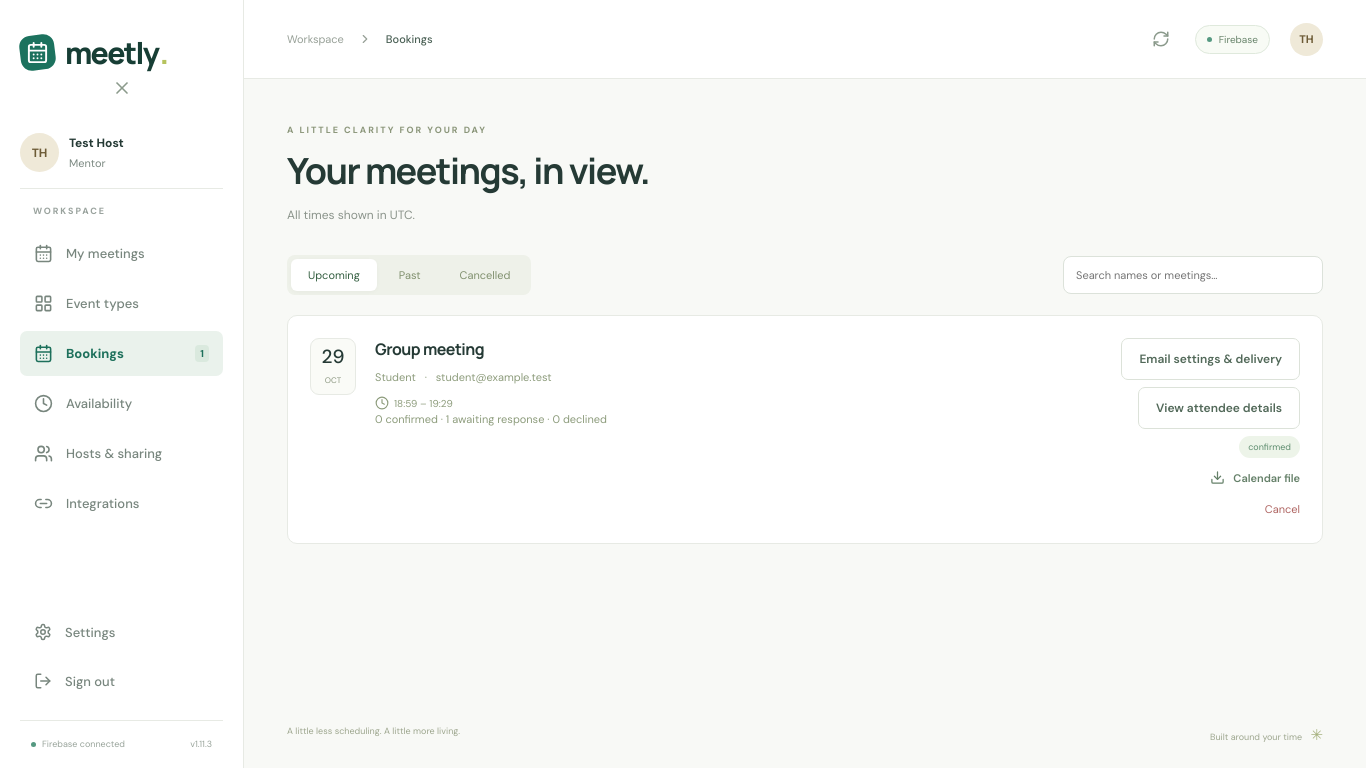
Test: group participant details preserve the original booking ID even with an older roster response
The width and height of the screenshot is (1366, 768).
(page scrolled)
Click the button "View attendee details" at (1219, 408), box [1138,387,1300,429]
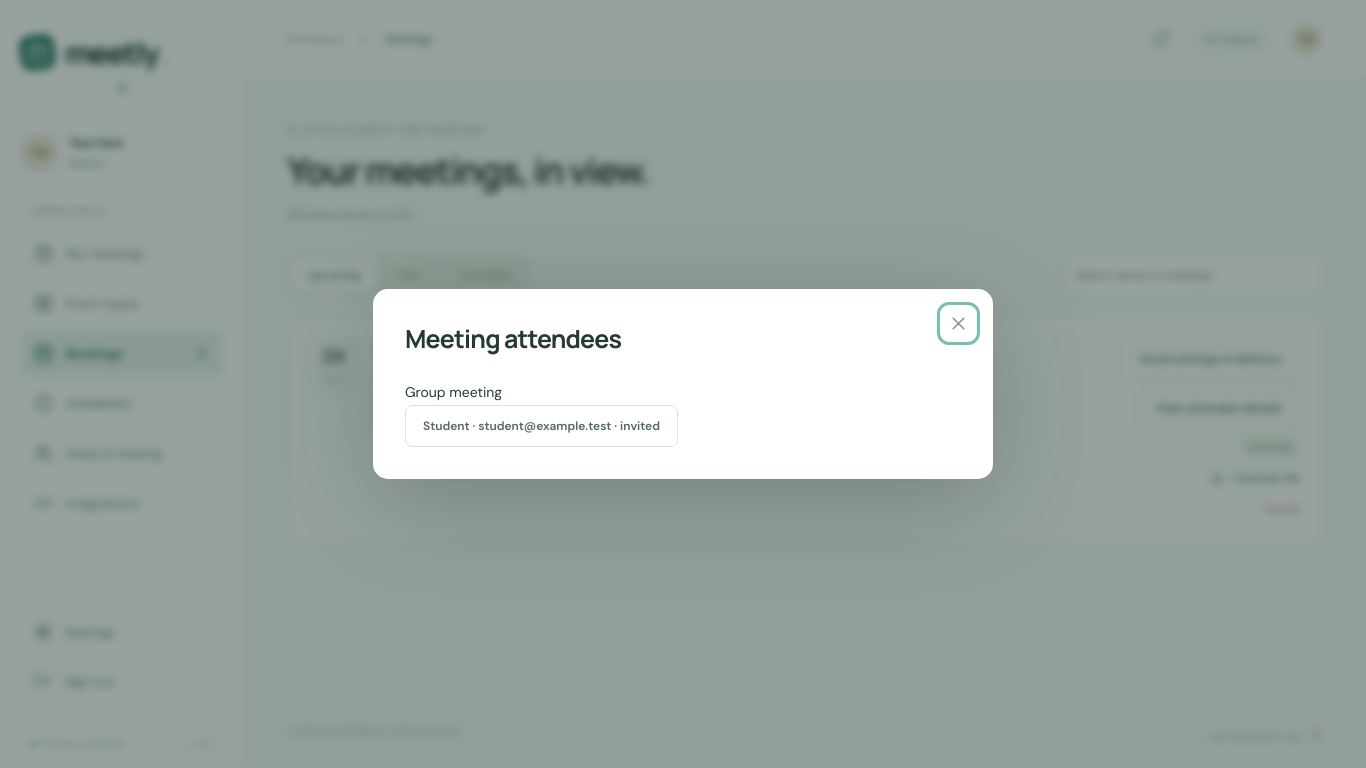
Click the button "Student · student@example.test · invited" at (542, 426), box [405,405,678,447]
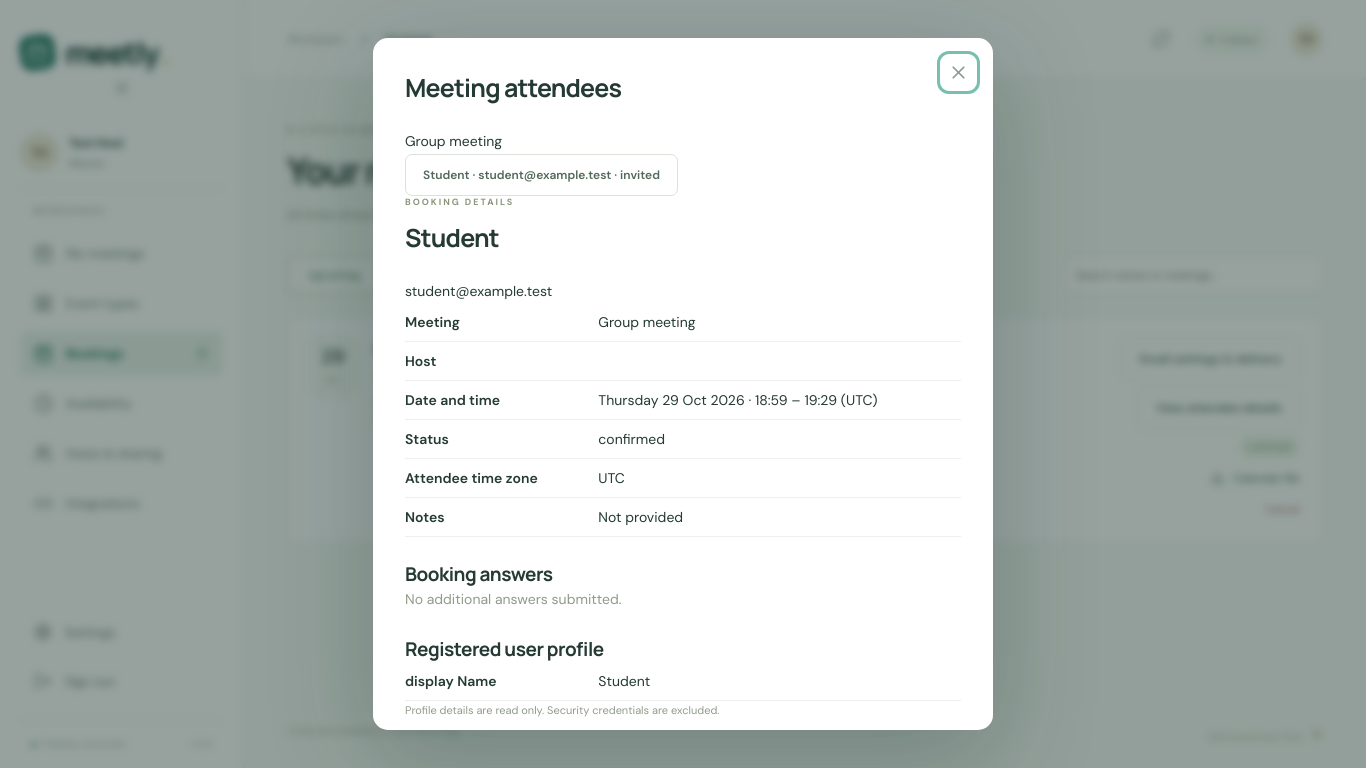
Expected: the heading "Student" is shown, [405,220,499,255]
